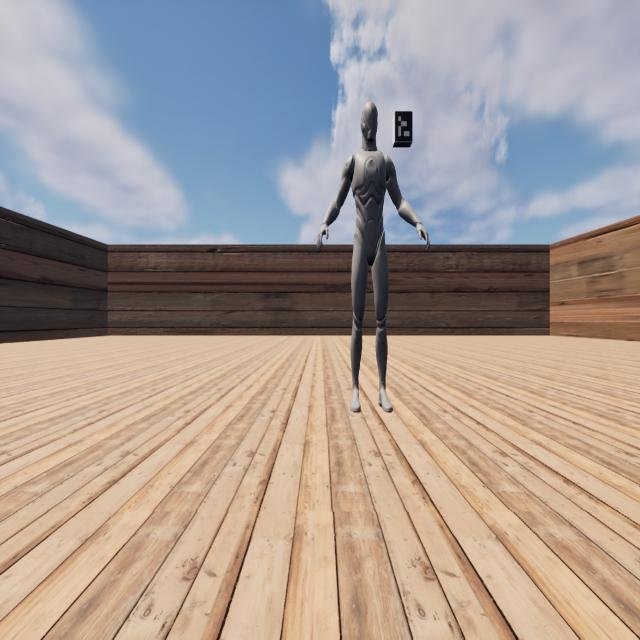aruco: (395, 112, 412, 142)
hip: (353, 230, 385, 244)
